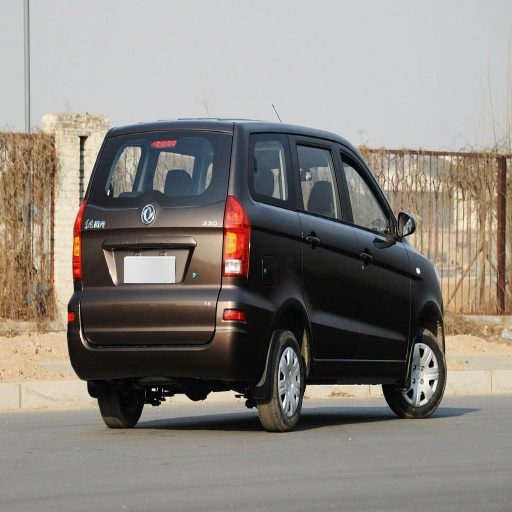back_bumper: (67, 285, 272, 379)
back_right_door: (252, 132, 363, 357)
tailgate: (82, 194, 221, 294)
trunk: (83, 197, 227, 335)
